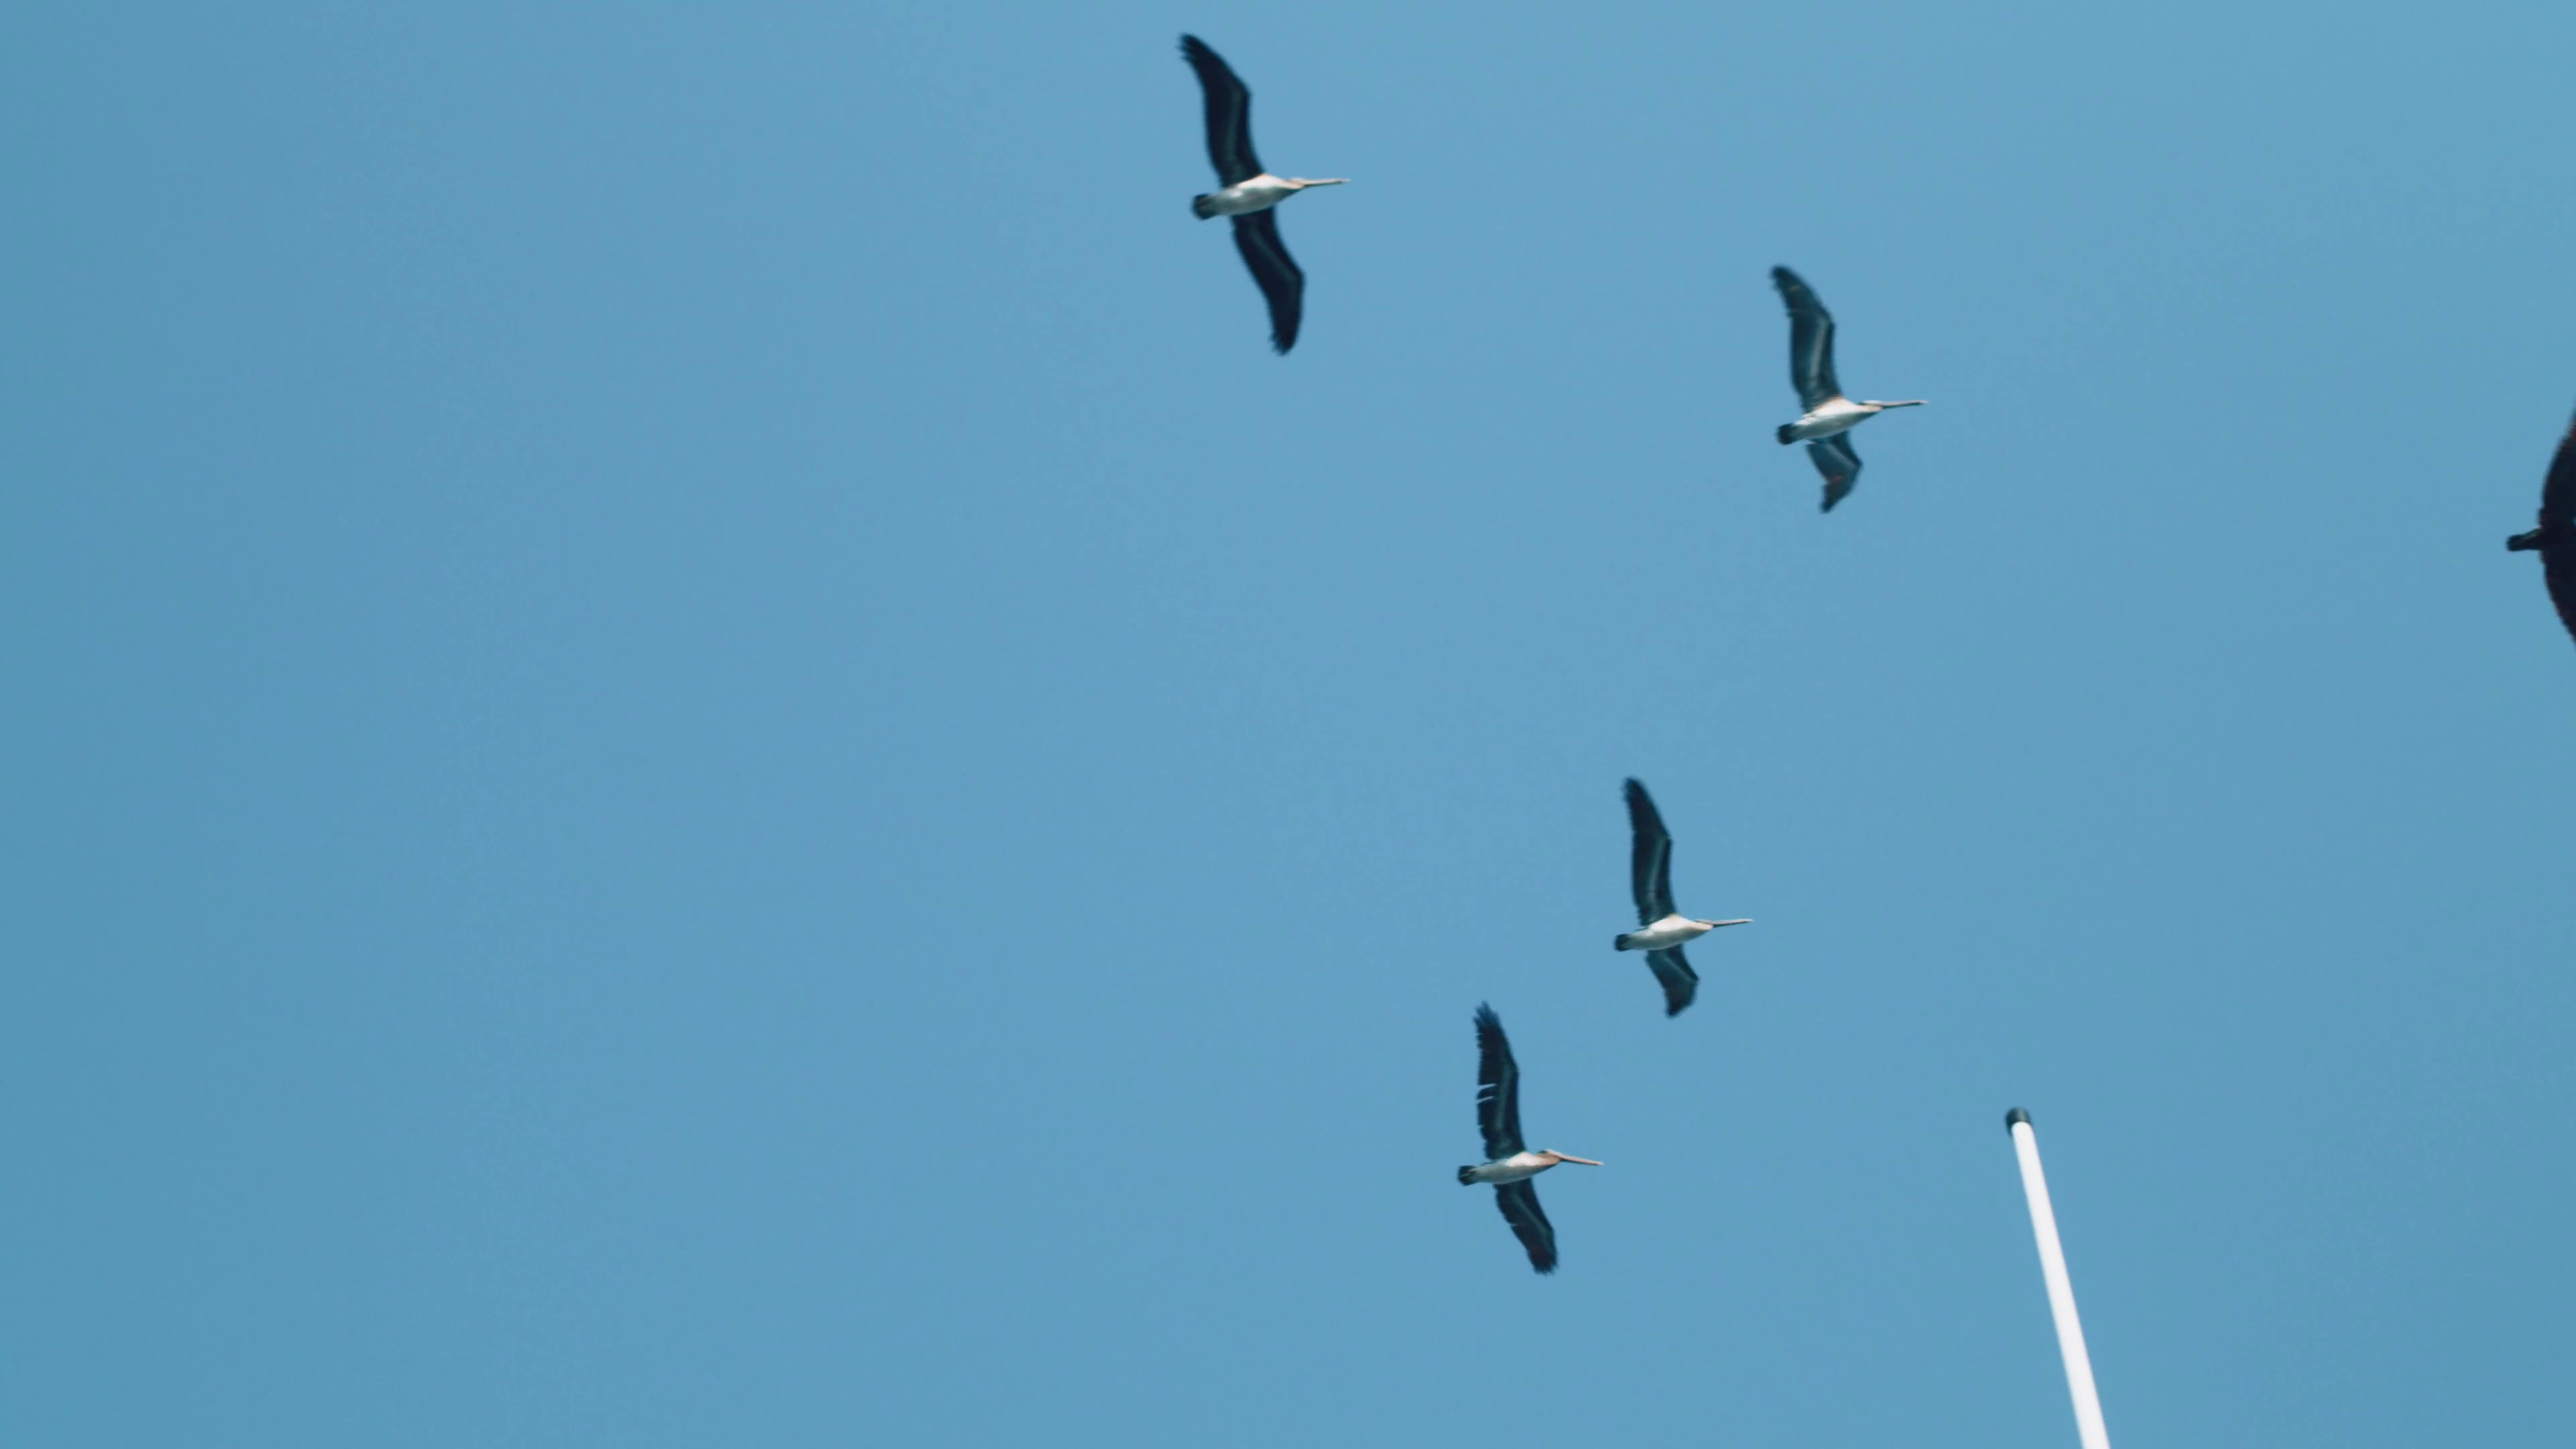bird: (1177, 35, 1348, 359), (1458, 998, 1601, 1276), (1766, 269, 1923, 513), (1612, 771, 1753, 1016)
